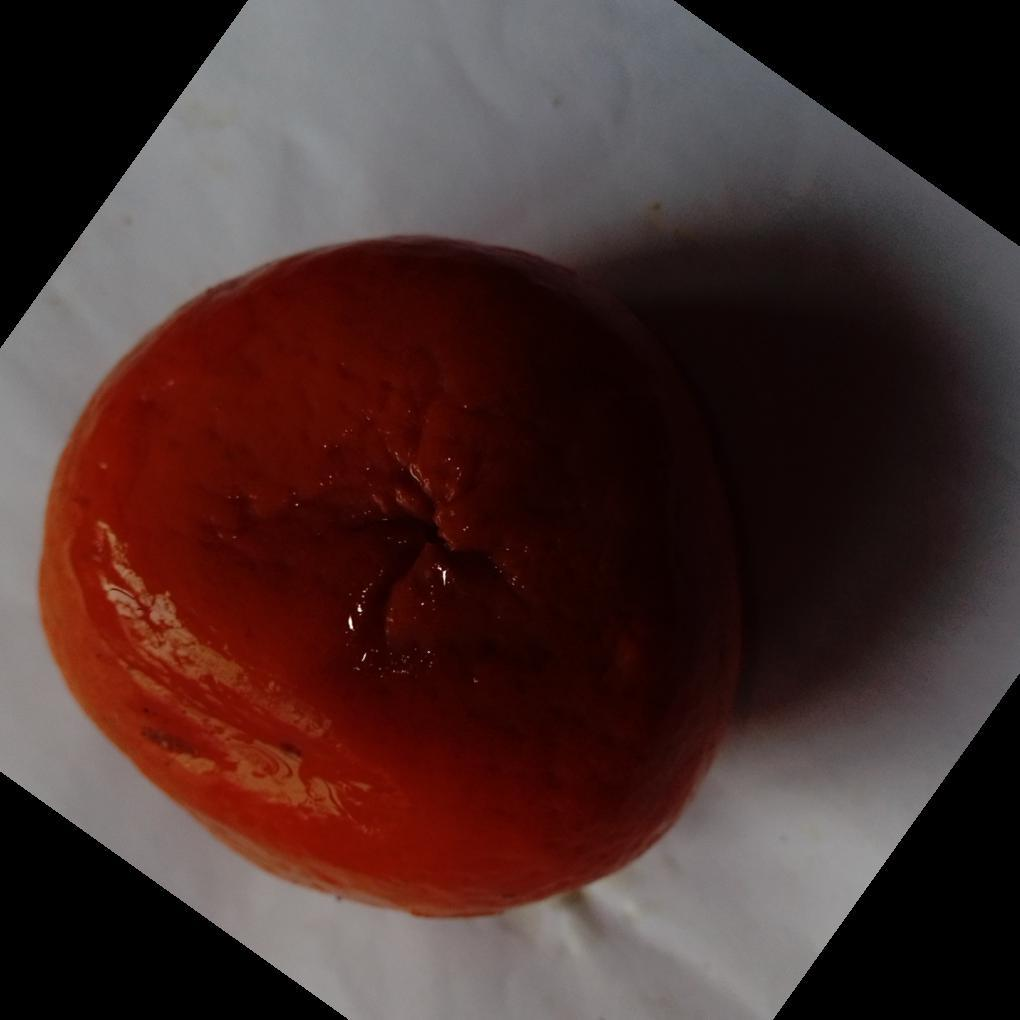FreshOrange: (34, 236, 753, 923)
